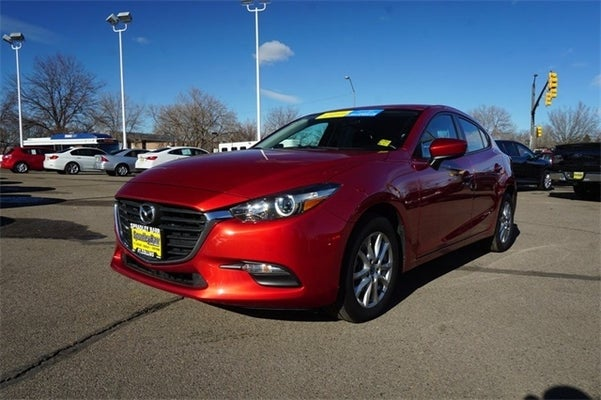Mazda3 Hatchback: (110, 102, 518, 323)
